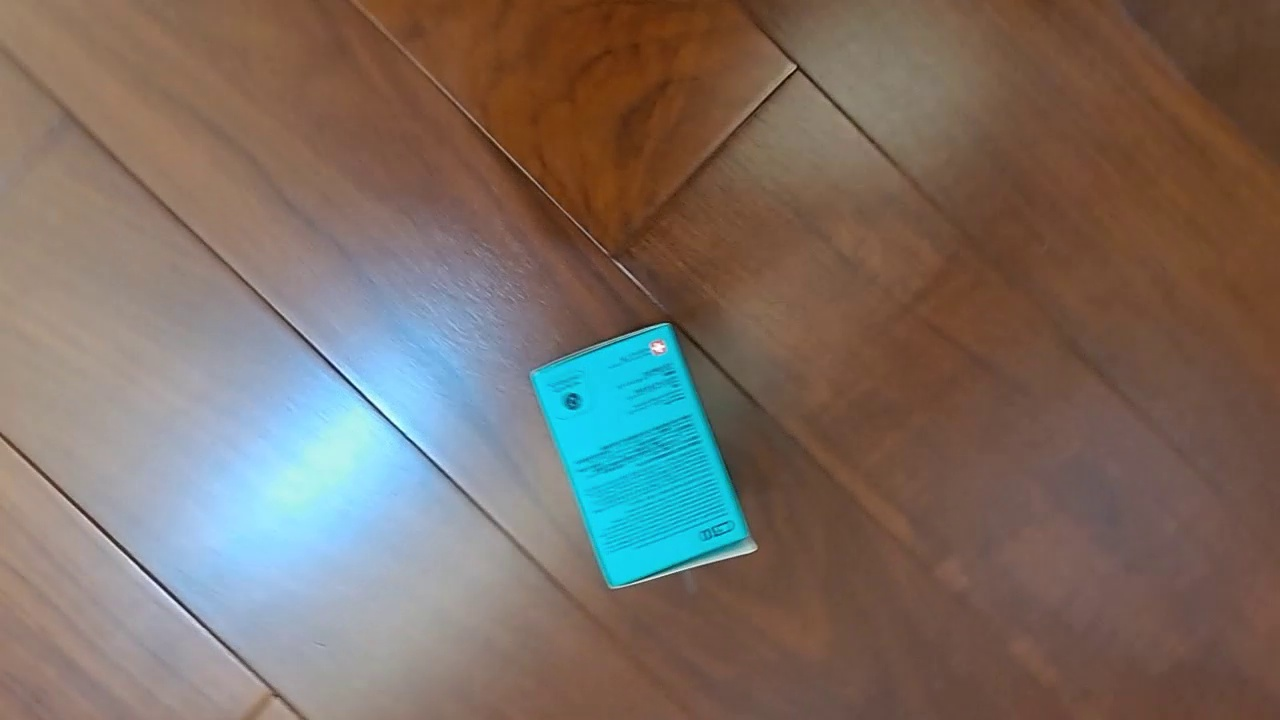webcam: (528, 322, 759, 591)
